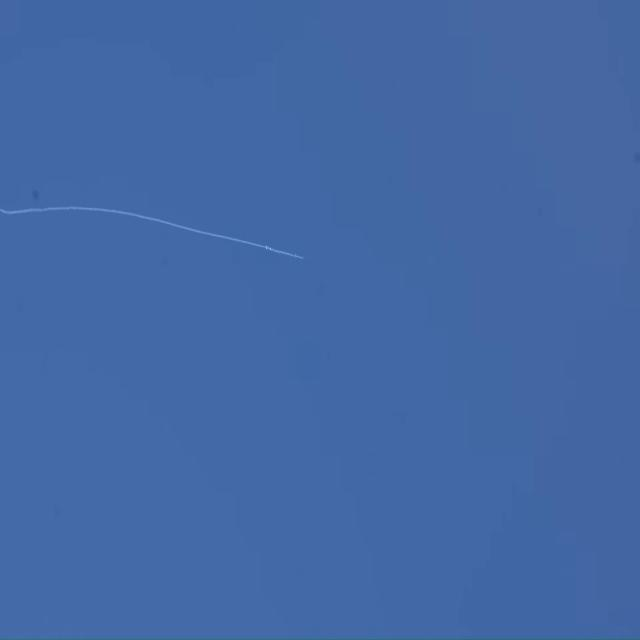Rocket: (294, 253, 304, 260)
